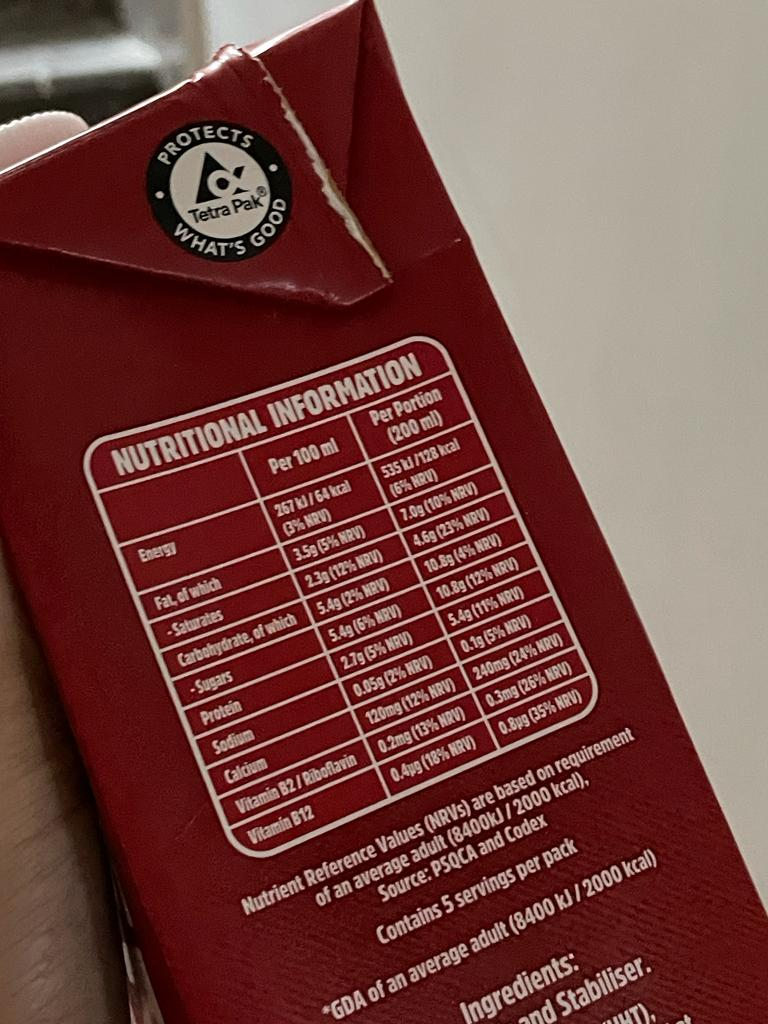table: (89, 330, 606, 852)
